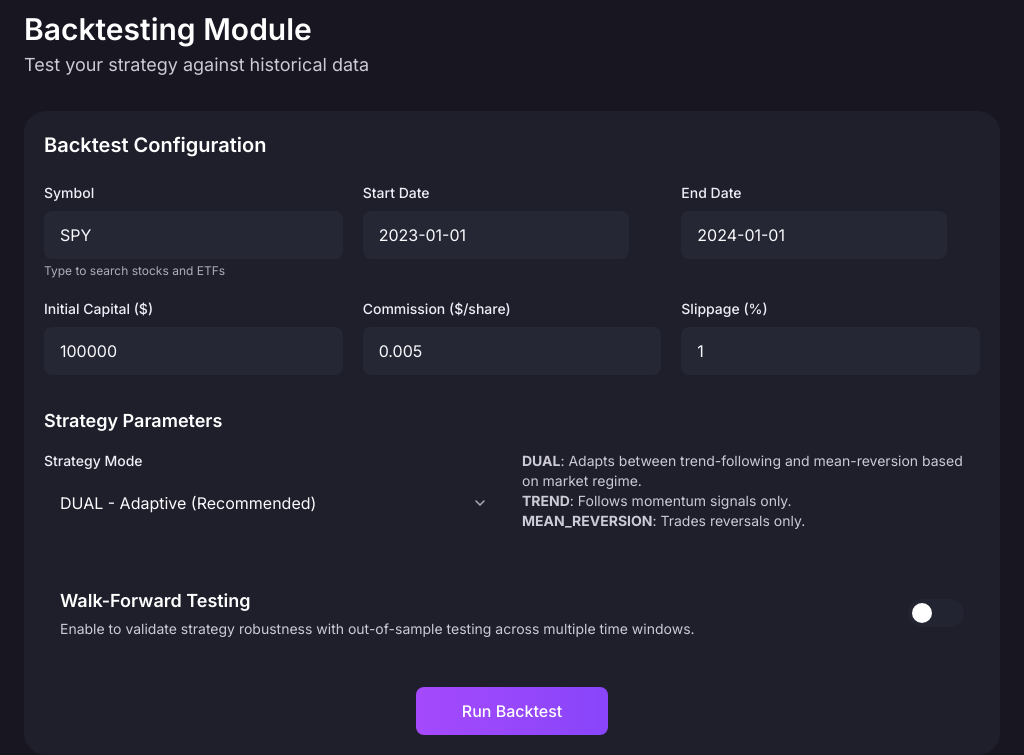
Backtest Page › displays error message when backtest fails
Click the button "Run Backtest": coordinates (512, 711) [416,687,608,735]
(page scrolled)
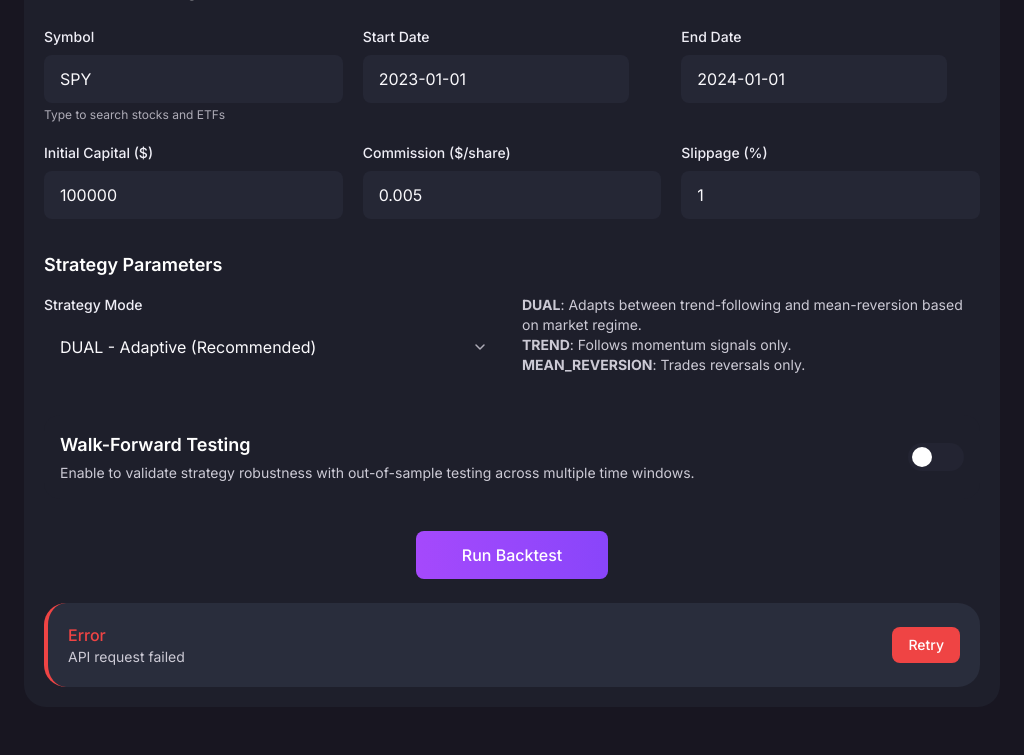
Check: the text "Error" is shown, box [68,625,106,645]
Check: the text "API request failed" is shown, box [68,647,185,667]
